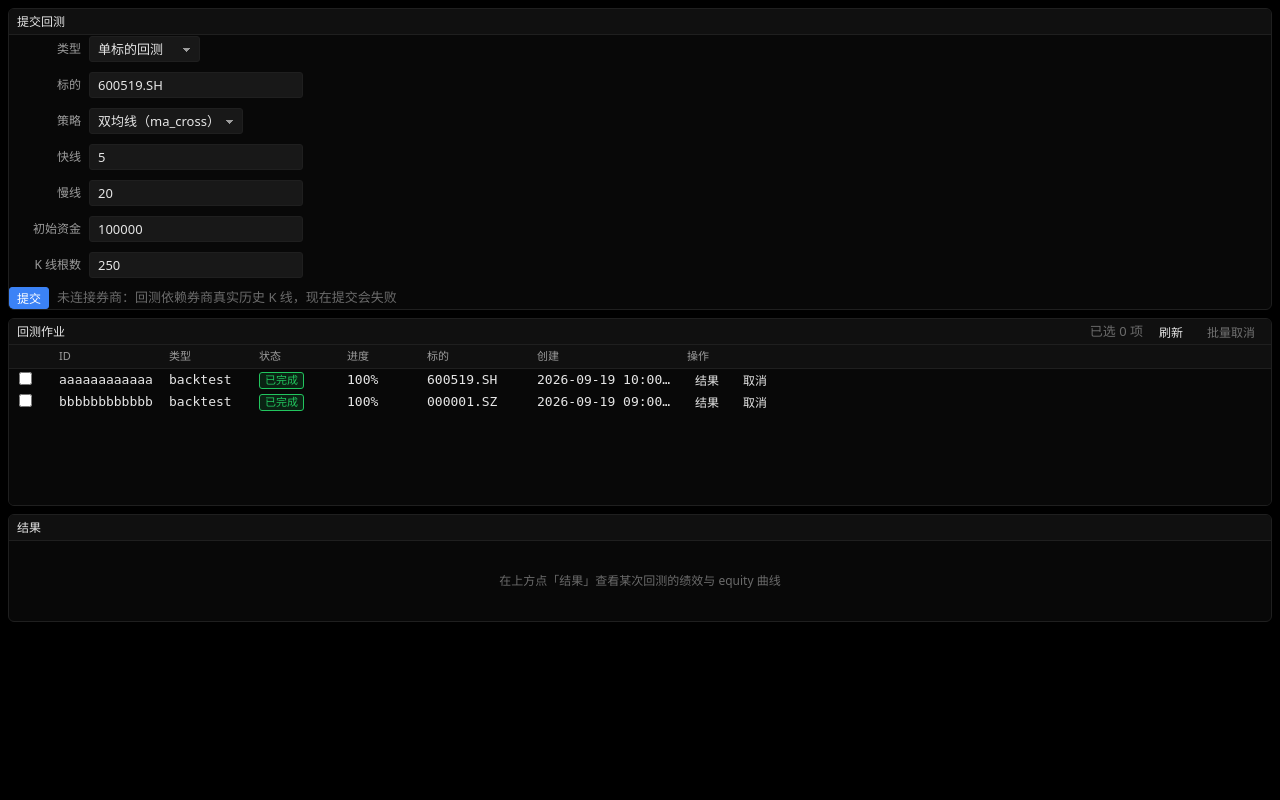
策略回测页 › 诚信标注必须照显示（样本不足时后端明确说 VaR/CVaR 未输出）
Expected: the text "000001.SZ" is shown, [427,394,498,409]
What coordinates should you click on to do the following:
click the button "结果" in the row of "bbbbbbbbbbbb"
I would click on:
 (707, 402)
Its box is [687,390,727,412].
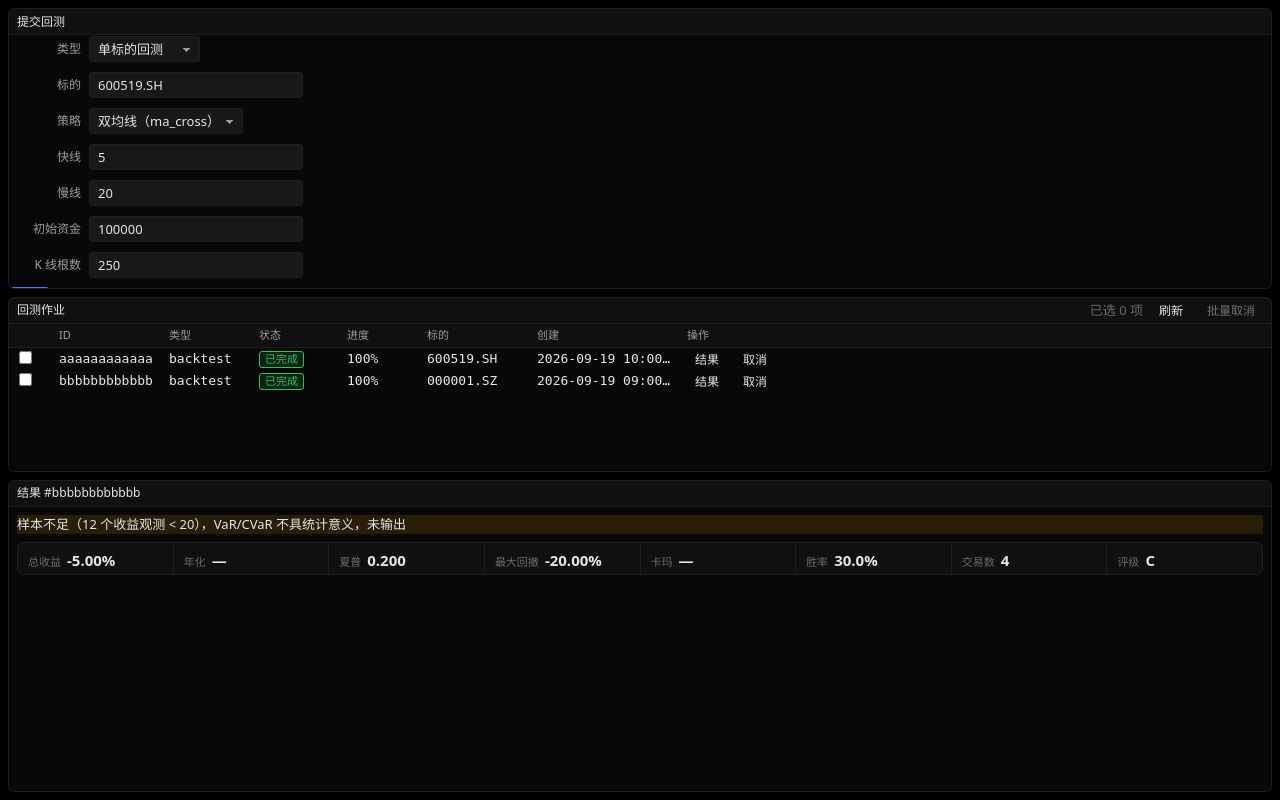
Expected: the text "样本不足（12 个收益观测 < 20），VaR/CVaR 不具统计意义，未输出" is shown, [17,515,1263,534]
